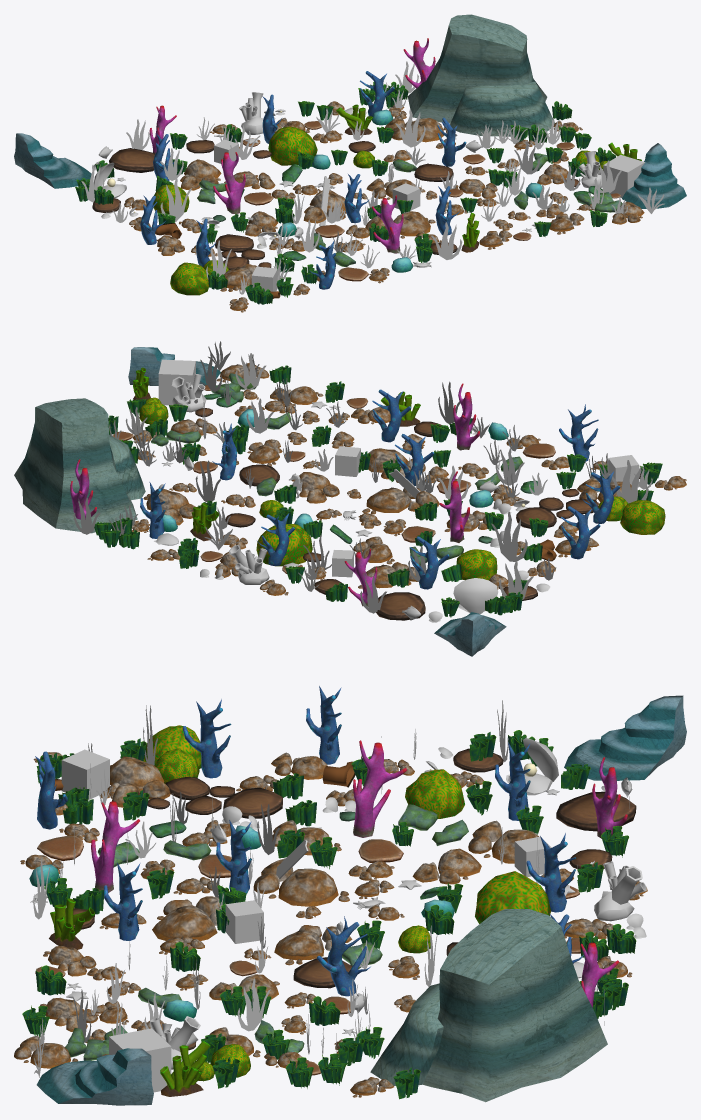
Rendered from PW_Env_Layout_02.fbx.
3 renders of one model, top to bottom at view 1: azimuth 30°, elevation 25°; view 2: azimuth 150°, elevation 25°; view 3: azimuth 270°, elevation 25°, orthographic. The views are drawn at different scales.
Visible parts, largest first — view 1: BigMountain_01, Stackrocks_01, Stackrocks_02, GreenCoral_04, GreenCoral_01, Crate_04, redCoral_1, Slabs_01, ScatteredRocks_40, redCoral_2, ScatteredRocks_3, ScatteredRocks_24 (+29 smaller); view 2: BigMountain_01, Stackrocks_01, Stackrocks_02, ScatteredRocks_54, GreenCoral_01, GreenCoral_04, Crate_04, PearlClam_Top, Slabs_01, GreenCoral_07, redCoral_2, ScatteredRocks_14 (+31 smaller); view 3: BigMountain_01, Stackrocks_01, Stackrocks_02, ScatteredRocks_54, GreenCoral_04, ScatteredRocks_40, redCoral_1, GreenCoral_07, ScatteredRocks_33, Crate_03, Crate_04, redCoral_2 (+49 smaller).
Part boxes in pixels (bbox=[...]): BigMountain_01: bbox=[407, 14, 554, 136]; Stackrocks_01: bbox=[14, 133, 91, 188]; Stackrocks_02: bbox=[622, 143, 686, 208]; GreenCoral_04: bbox=[268, 126, 317, 165]; GreenCoral_01: bbox=[170, 262, 209, 295]; Crate_04: bbox=[603, 155, 645, 197]; redCoral_1: bbox=[213, 152, 245, 213]; Slabs_01: bbox=[109, 148, 155, 172]; ScatteredRocks_40: bbox=[365, 211, 435, 238]; redCoral_2: bbox=[371, 195, 403, 253]; ScatteredRocks_3: bbox=[384, 116, 447, 142]; ScatteredRocks_24: bbox=[180, 159, 221, 190]; BigMountain_01: bbox=[14, 398, 145, 533]; Stackrocks_01: bbox=[434, 612, 506, 656]; Stackrocks_02: bbox=[128, 347, 220, 385]; ScatteredRocks_54: bbox=[362, 487, 439, 514]; GreenCoral_01: bbox=[620, 500, 665, 534]; GreenCoral_04: bbox=[256, 524, 312, 566]; Crate_04: bbox=[158, 359, 195, 405]; PearlClam_Top: bbox=[453, 578, 498, 613]; Slabs_01: bbox=[376, 592, 425, 620]; GreenCoral_07: bbox=[456, 549, 497, 580]; redCoral_2: bbox=[453, 383, 479, 450]; ScatteredRocks_14: bbox=[291, 472, 339, 503]; BigMountain_01: bbox=[370, 909, 607, 1102]; Stackrocks_01: bbox=[564, 695, 686, 780]; Stackrocks_02: bbox=[36, 1048, 153, 1105]; ScatteredRocks_54: bbox=[253, 858, 349, 906]; GreenCoral_04: bbox=[475, 871, 550, 923]; ScatteredRocks_40: bbox=[152, 896, 219, 945]; redCoral_1: bbox=[353, 740, 406, 837]; GreenCoral_07: bbox=[405, 769, 464, 818]; ScatteredRocks_33: bbox=[106, 756, 170, 807]; Crate_03: bbox=[61, 749, 109, 799]; Crate_04: bbox=[109, 1028, 171, 1092]; redCoral_2: bbox=[91, 801, 139, 892].
Bounding box in the file's own units: 925 × 168 × 719.
